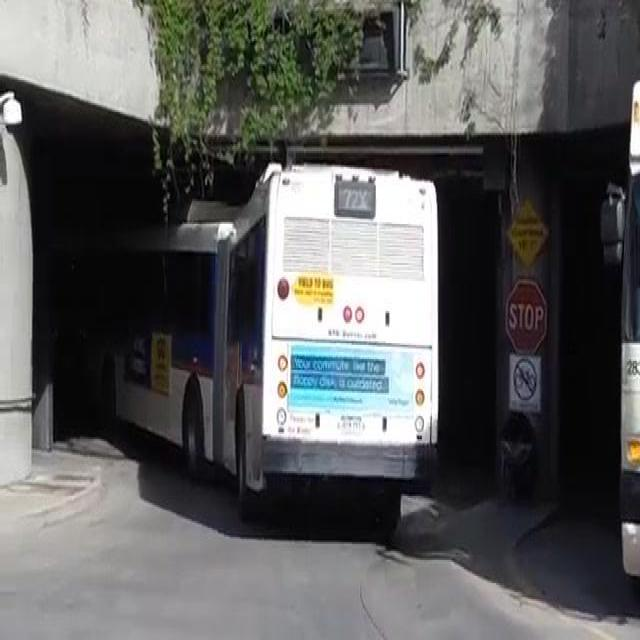motorcycle: (49, 107, 478, 546)
